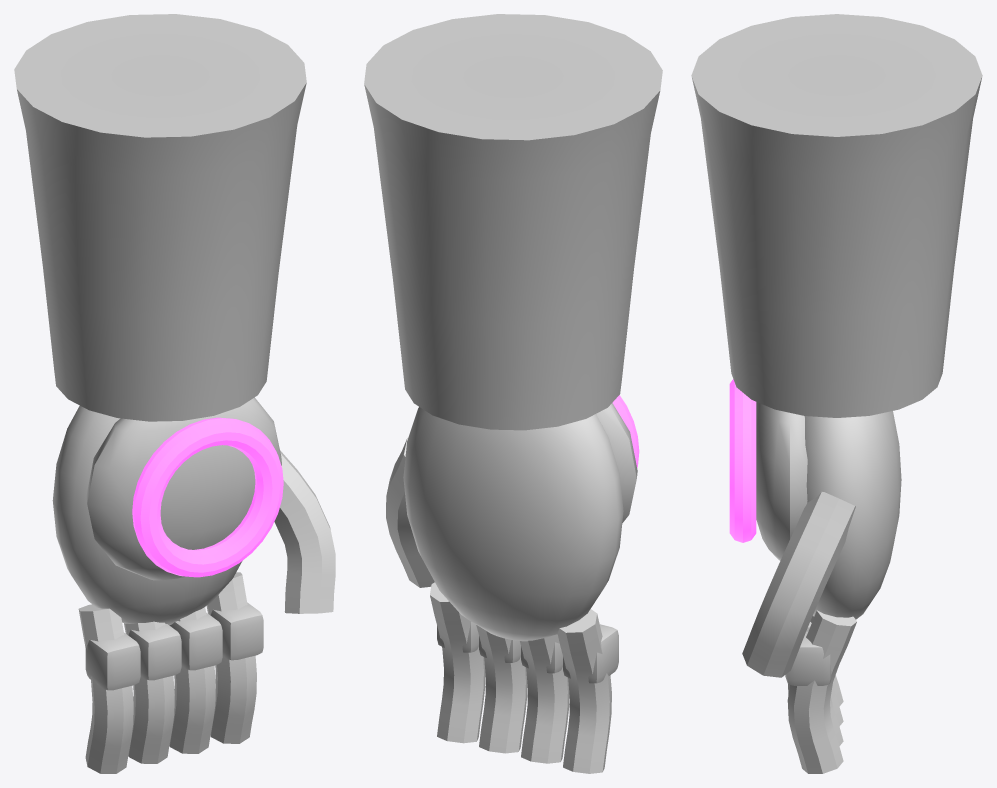
File: sponsored_gauntlets.glb
The picture shows the model from 3 angles, left to right: view 1: azimuth 30°, elevation 25°; view 2: azimuth 150°, elevation 25°; view 3: azimuth 270°, elevation 25°; orthographic projection. The views are drawn at different scales.
Parts seen in each view (by area): view 1: sponsored_gauntlets; view 2: sponsored_gauntlets; view 3: sponsored_gauntlets.
Part boxes in pixels (x1,y1,x2,y2): sponsored_gauntlets: (14, 14, 335, 773); sponsored_gauntlets: (364, 14, 662, 773); sponsored_gauntlets: (691, 14, 982, 773).
Bounding box in the file's own units: 0.1331 × 0.3118 × 0.124.
